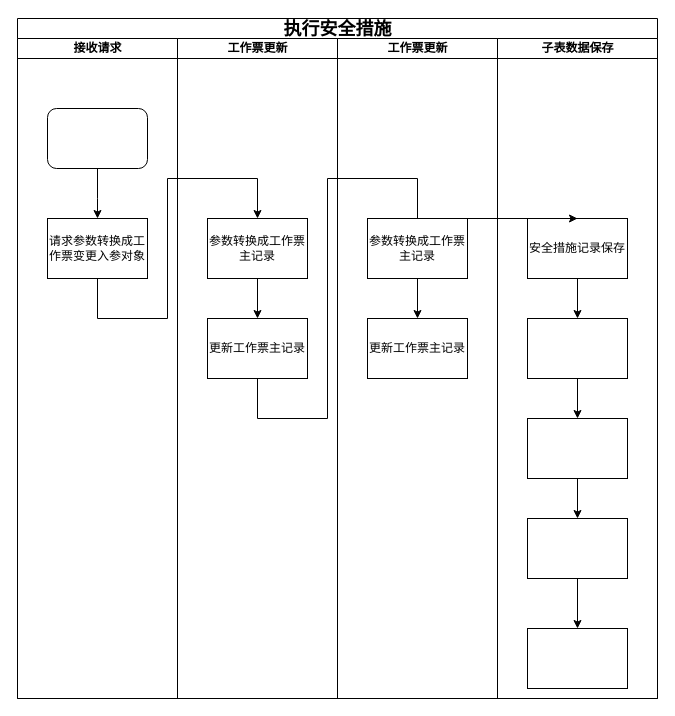
Some shapes in this 675 by 716 pixel diagram are drawn without their labels. Each missing label, with the centre of its shape:
工作终结数据保存: (577,348)
工作许可数据保存: (577,448)
开始: (97,138)
成功返回: (577,658)
配电安全措施数据保存: (577,548)
